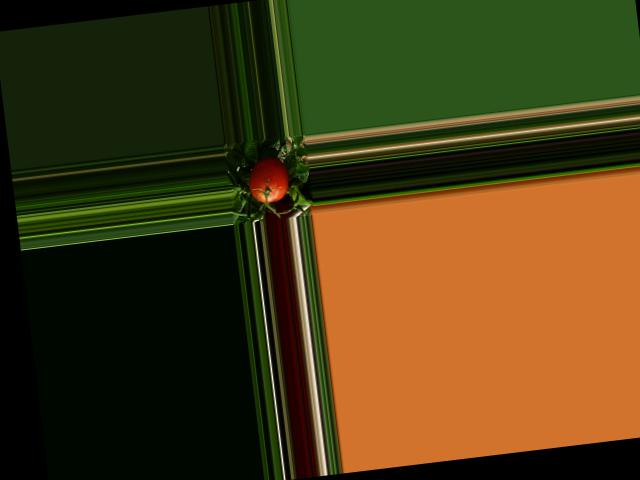tomato: (246, 156, 290, 205)
